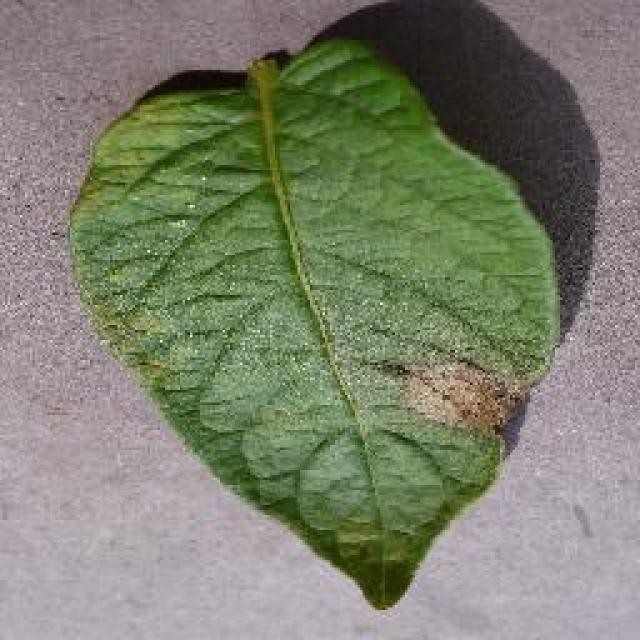Potato___Late_blight: (63, 34, 563, 613)
